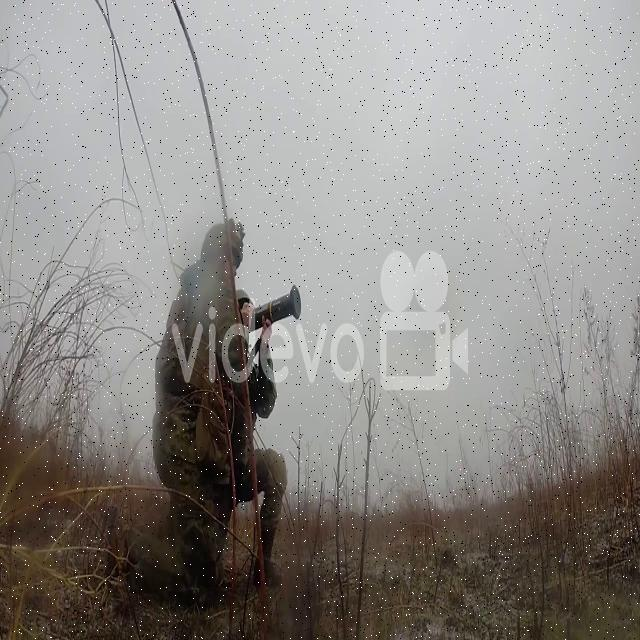bazooka: (249, 279, 306, 341)
